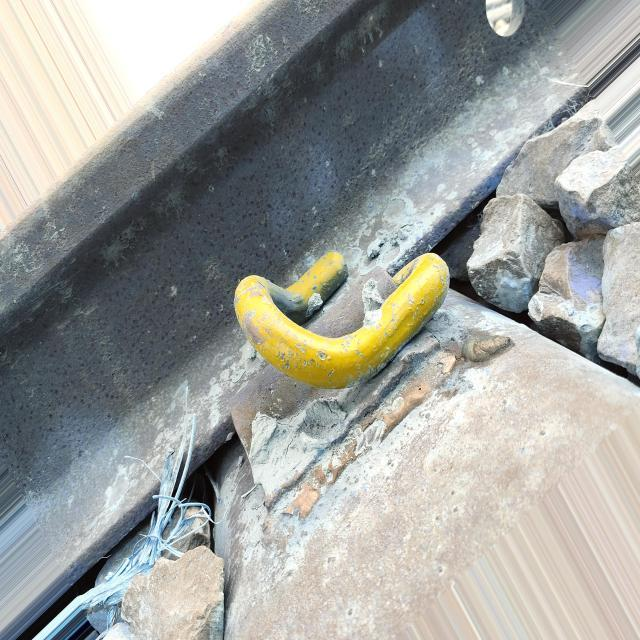Good Fasteners: (231, 252, 449, 502)
